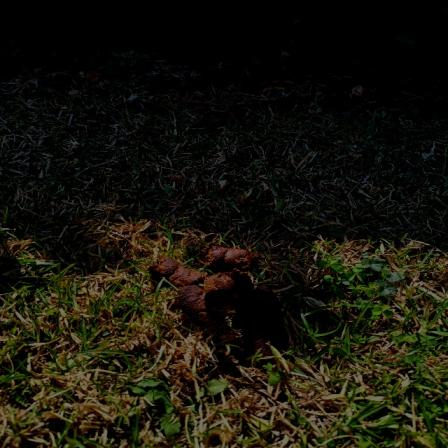dog-poop: (156, 233, 262, 325)
